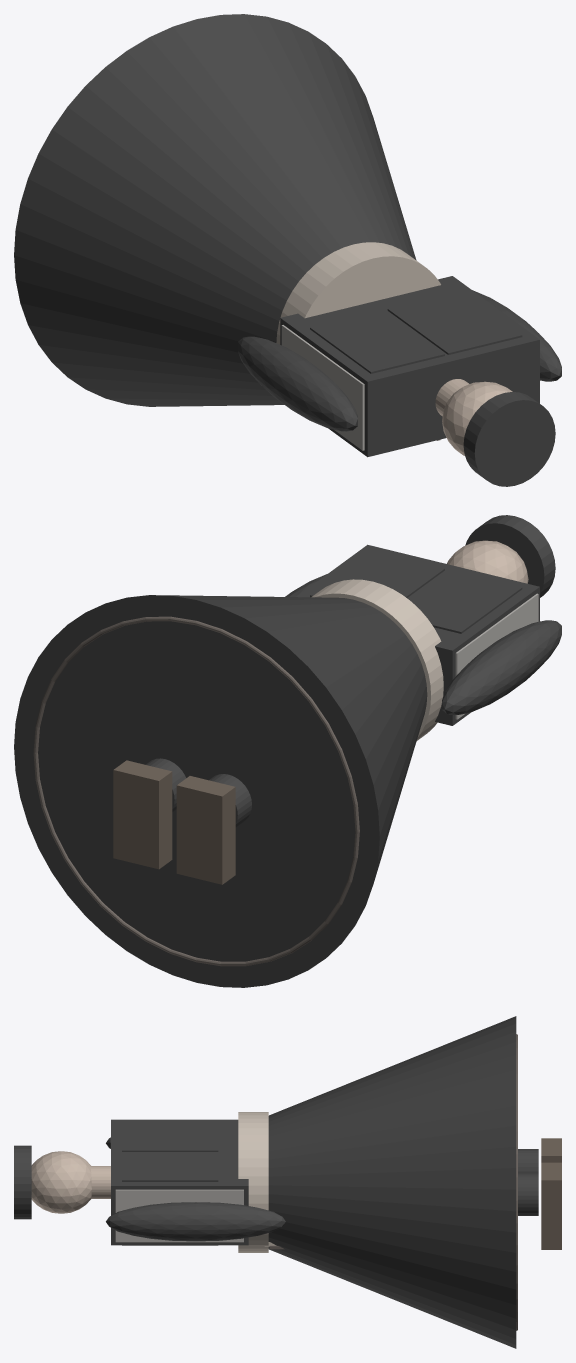
Rendered from MASTER_076_STAGE3_DETAIL.glb.
3 renders of one model, top to bottom at view 1: azimuth 30°, elevation 25°; view 2: azimuth 150°, elevation 25°; view 3: azimuth 270°, elevation 25°, orthographic. The views are drawn at different scales.
Visible parts, largest first — view 1: slot_lower_main__fund_i_gjatë, slot_upper_inner__këmishë, slot_waist__brez, slot_headwear__mbulesë_koke, slot_upper_inner_sleeve_L, slot_upper_outer__jelek_R, slot_upper_outer__jelek_L, mannequin_torso, mannequin_head, slot_upper_inner_sleeve_R; view 2: slot_lower_main__fund_i_gjatë, slot_footwear__opinga_R, slot_footwear__opinga_L, slot_upper_inner_sleeve_L, detail_skirt_hem, slot_waist__brez, slot_upper_inner__këmishë, slot_upper_outer__jelek_L, slot_headwear__mbulesë_koke, slot_upper_outer__jelek_R, mannequin_head, mannequin_torso (+2 smaller); view 3: slot_lower_main__fund_i_gjatë, slot_upper_inner_sleeve_R, slot_upper_inner__këmishë, mannequin_head, slot_waist__brez, slot_upper_outer__jelek_R, slot_upper_outer__jelek_L, mannequin_torso, slot_footwear__opinga_R, slot_headwear__mbulesë_koke, slot_legwear__çorape_R, mannequin_neck (+3 smaller).
Boxes of the visible parts, x1,y1,x2,y2 form: slot_lower_main__fund_i_gjatë: [14, 14, 416, 406]; slot_upper_inner__këmishë: [280, 276, 539, 457]; slot_waist__brez: [276, 242, 440, 344]; slot_headwear__mbulesë_koke: [463, 392, 555, 486]; slot_upper_inner_sleeve_L: [238, 336, 357, 431]; slot_upper_outer__jelek_R: [387, 290, 522, 354]; slot_upper_outer__jelek_L: [310, 309, 444, 373]; mannequin_torso: [281, 325, 364, 450]; mannequin_head: [442, 381, 512, 455]; slot_upper_inner_sleeve_R: [472, 290, 561, 381]; slot_lower_main__fund_i_gjatë: [14, 595, 427, 987]; slot_footwear__opinga_R: [113, 760, 172, 869]; slot_footwear__opinga_L: [176, 776, 235, 884]; slot_upper_inner_sleeve_L: [442, 620, 561, 715]; detail_skirt_hem: [33, 616, 359, 966]; slot_waist__brez: [311, 579, 443, 740]; slot_upper_inner__këmishë: [296, 544, 539, 725]; slot_upper_outer__jelek_L: [408, 569, 522, 633]; slot_headwear__mbulesë_koke: [465, 515, 555, 597]; slot_upper_outer__jelek_R: [310, 550, 444, 597]; mannequin_head: [447, 540, 528, 583]; mannequin_torso: [455, 593, 538, 719]; slot_lower_main__fund_i_gjatë: [268, 1016, 516, 1348]; slot_upper_inner_sleeve_R: [106, 1202, 285, 1241]; slot_upper_inner__këmishë: [111, 1119, 248, 1245]; mannequin_head: [31, 1151, 91, 1213]; slot_waist__brez: [238, 1112, 268, 1252]; slot_upper_outer__jelek_R: [122, 1152, 218, 1245]; slot_upper_outer__jelek_L: [122, 1122, 218, 1151]; mannequin_torso: [115, 1189, 243, 1242]; slot_footwear__opinga_R: [541, 1162, 561, 1249]; slot_headwear__mbulesë_koke: [14, 1145, 31, 1219]; slot_legwear__çorape_R: [518, 1173, 538, 1215]; mannequin_neck: [91, 1166, 110, 1198].
Bounding box in the file's own units: 1.04 × 1.04 × 1.71.
